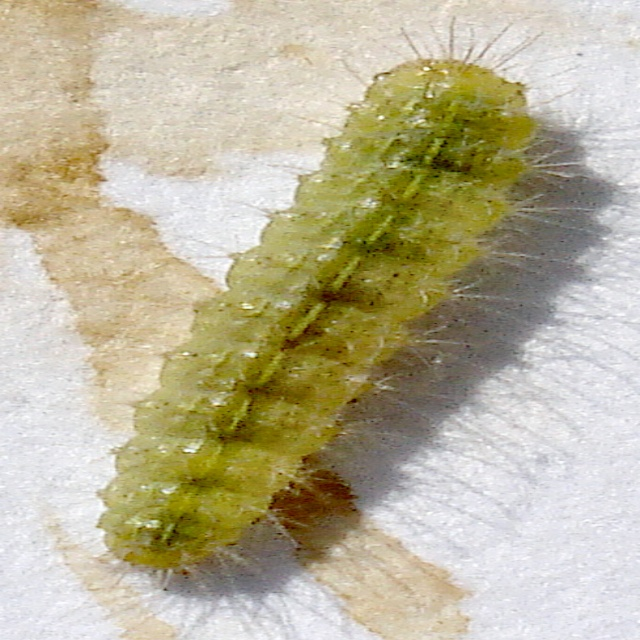Caterpillar: (2, 4, 638, 634)
